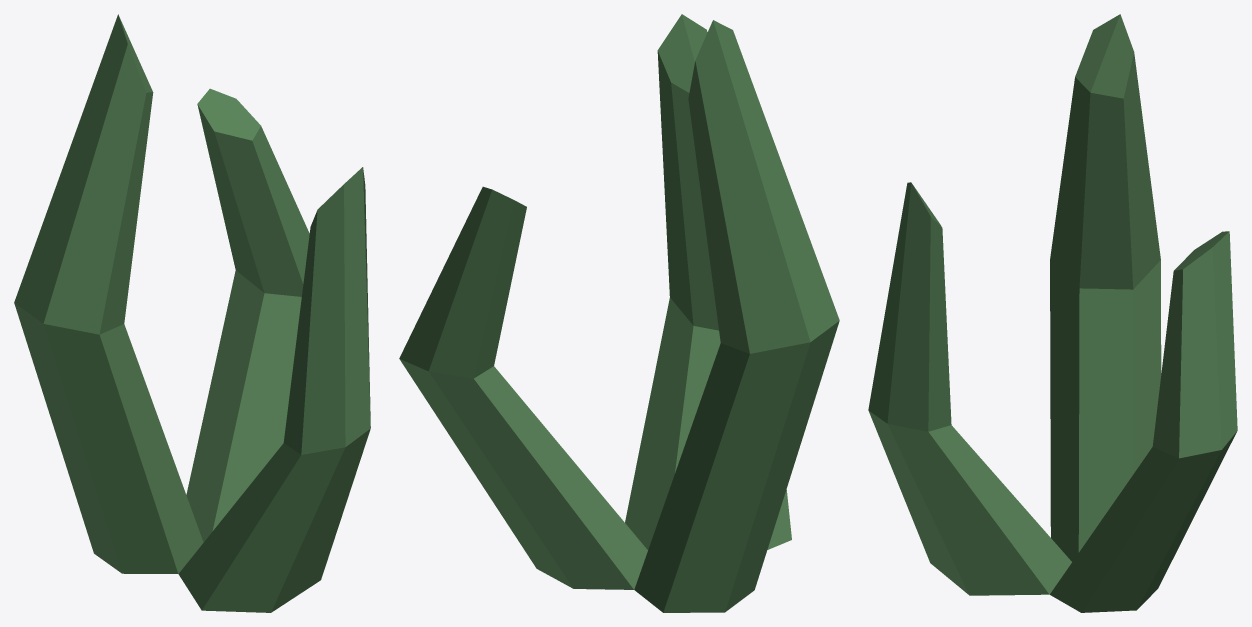
The model's file is Grass.fbx.
The picture shows the model from 3 angles, left to right: view 1: azimuth 30°, elevation 25°; view 2: azimuth 150°, elevation 25°; view 3: azimuth 270°, elevation 25°; orthographic projection. The views are drawn at different scales.
Visible parts, largest first — view 1: Grass; view 2: Grass; view 3: Grass.
Part boxes in pixels (x1=…): Grass: x1=14, y1=14, x2=370, y2=612; Grass: x1=399, y1=14, x2=839, y2=612; Grass: x1=868, y1=14, x2=1237, y2=612.
Bounding box in the file's own units: 55.02 × 84.19 × 53.84.
